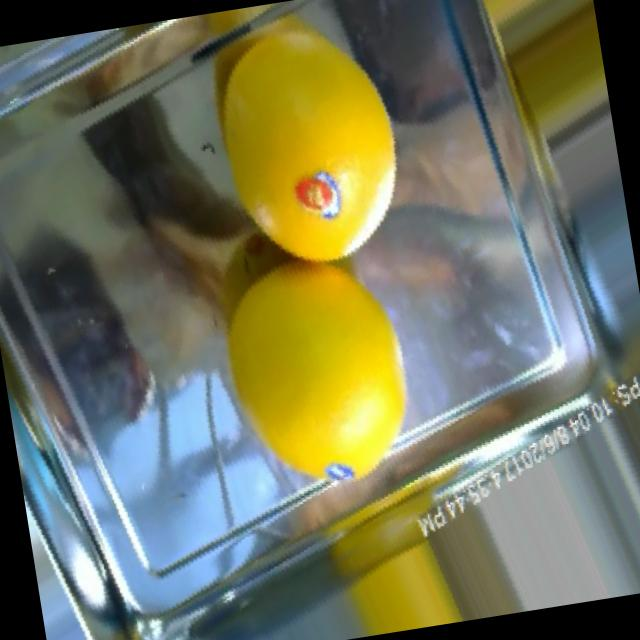Fruit: (405, 470, 555, 628)
